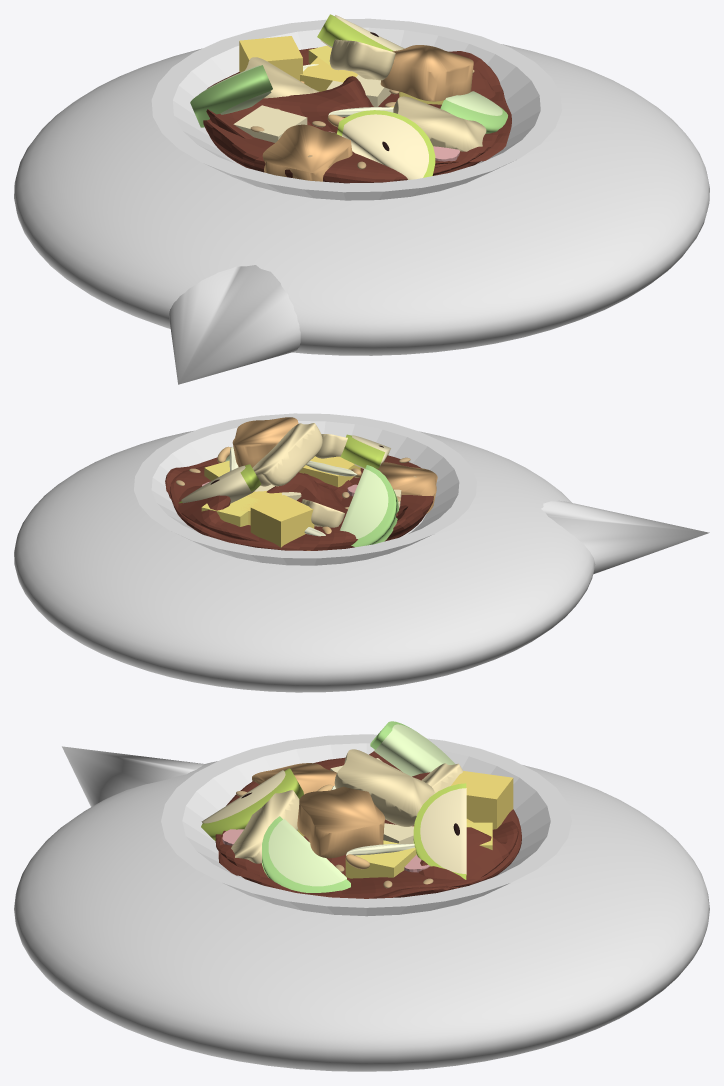
Rendered from rojakreq1.fbx.
3 views of the same model, one above another, from view 1: azimuth 30°, elevation 25°; view 2: azimuth 150°, elevation 25°; view 3: azimuth 270°, elevation 25° (orthographic). The views are drawn at different scales.
Visible parts, largest first — view 1: Sphere.001, Cylinder, Cone, Sphere.029, Sphere.023, Cylinder.031, Sphere.022, Sphere.028, Cylinder.028, Sphere.026, Cube.027, Cube.007 (+7 smaller); view 2: Sphere.001, Cylinder, Sphere.029, Cone, Sphere.026, Cube.027, Cylinder.029, Sphere.023, Sphere.022, Cylinder.022, Cylinder.028, Cylinder.030 (+4 smaller); view 3: Sphere.001, Cylinder, Sphere.029, Sphere.023, Cone, Sphere.026, Cylinder.022, Cylinder.025, Cube.027, Cylinder.029, Sphere.028, Cube.008 (+7 smaller).
Part boxes in pixels (x1,y1,x2,y2): Sphere.001: (14, 44, 709, 355); Cylinder: (151, 18, 561, 200); Cone: (169, 265, 300, 384); Sphere.029: (203, 47, 511, 183); Sphere.023: (380, 45, 473, 101); Cylinder.031: (342, 114, 428, 179); Sphere.022: (262, 124, 352, 181); Sphere.028: (393, 96, 486, 151); Cylinder.028: (190, 65, 272, 127); Sphere.026: (329, 39, 395, 80); Cube.027: (239, 36, 302, 80); Cube.007: (233, 105, 307, 142); Sphere.001: (14, 431, 595, 692); Cylinder: (134, 413, 476, 565); Sphere.029: (165, 455, 433, 550); Cone: (541, 500, 709, 574); Sphere.026: (252, 423, 322, 486); Cube.027: (250, 495, 314, 547); Cylinder.029: (340, 469, 388, 538); Sphere.023: (232, 417, 298, 467); Sphere.022: (376, 462, 437, 513); Cylinder.022: (181, 465, 256, 503); Cylinder.028: (351, 465, 398, 547); Cylinder.030: (340, 434, 384, 468); Sphere.001: (14, 761, 709, 1071); Cylinder: (161, 734, 571, 916); Sphere.029: (215, 751, 521, 898); Sphere.023: (297, 786, 384, 858); Cone: (62, 746, 204, 806); Sphere.026: (334, 749, 434, 826); Cylinder.022: (420, 788, 466, 874); Cylinder.025: (268, 819, 346, 886); Cube.027: (451, 771, 513, 829); Cylinder.029: (374, 724, 455, 776); Sphere.028: (231, 790, 299, 863); Cube.008: (345, 840, 416, 878).
Bounding box in the file's own units: 339 × 116 × 322.
